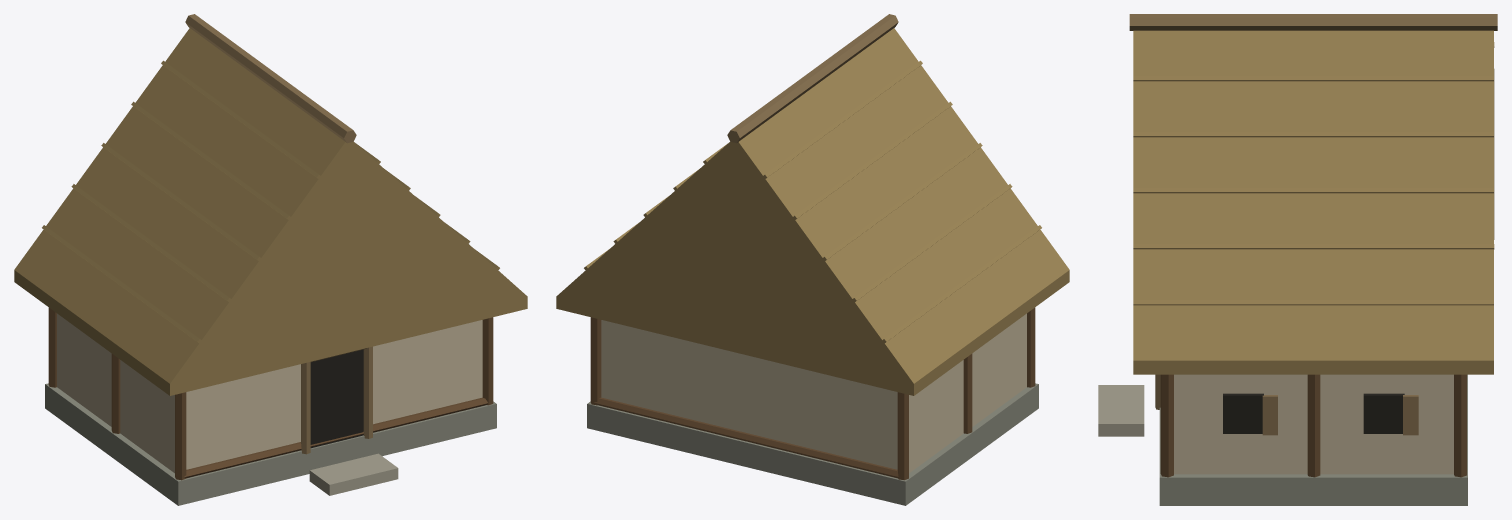
File: house_wide.glb
3 views of the same model, side by side, from view 1: azimuth 30°, elevation 25°; view 2: azimuth 150°, elevation 25°; view 3: azimuth 270°, elevation 25° (orthographic). The views are drawn at different scales.
Visible parts, largest first — view 1: house_wide; view 2: house_wide; view 3: house_wide.
Boxes of the visible parts, left/top/right/bottom form: house_wide: left=14, top=14, right=527, bottom=505; house_wide: left=556, top=14, right=1069, bottom=505; house_wide: left=1098, top=14, right=1497, bottom=505.
Size of the model in its own units: 6.76 by 6.26 by 5.64.
